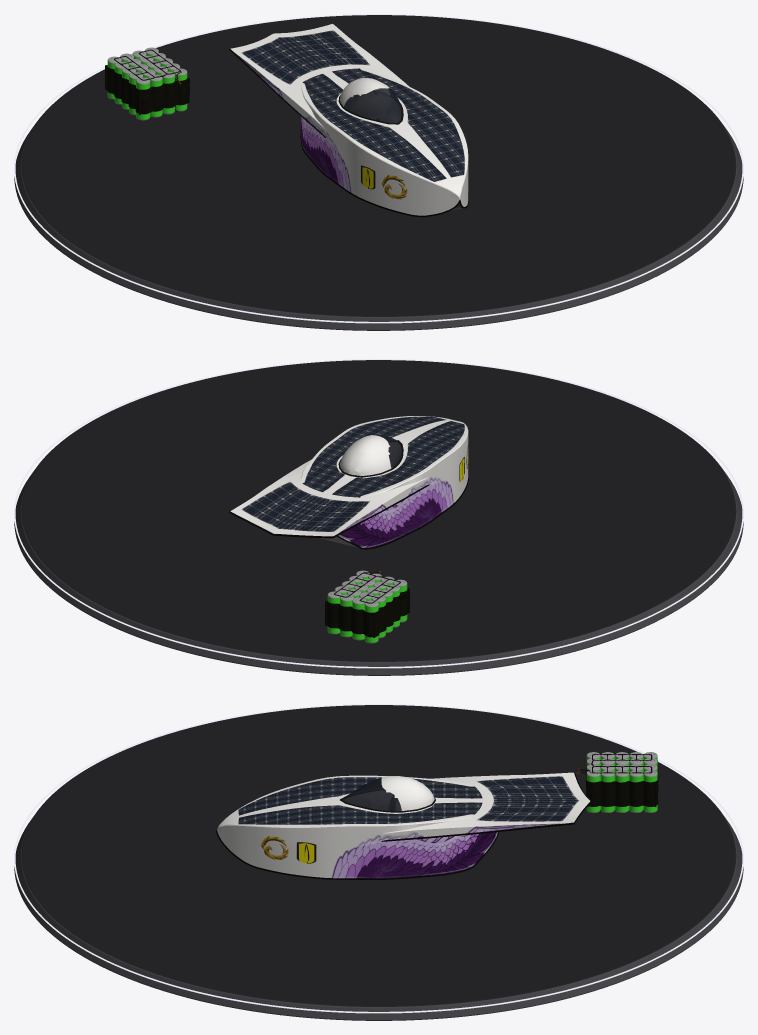
Rendered from vehicle-scene-v1.glb.
3 views of the same model, one above another, from view 1: azimuth 30°, elevation 25°; view 2: azimuth 150°, elevation 25°; view 3: azimuth 270°, elevation 25° (orthographic).
Visible parts, largest first — view 1: Plataforma, Carro_casco, LED_plataforma, Bateria_celdas, Bateria_soporte, Carro_cabina, Carro_borde_a; view 2: Plataforma, Carro_casco, LED_plataforma, Bateria_celdas, Bateria_soporte, Carro_borde_a; view 3: Plataforma, Carro_casco, LED_plataforma, Bateria_celdas, Bateria_soporte, Carro_borde_a, Carro_cabina.
Part boxes in pixels (left/top/right/bottom): Plataforma: left=14, top=15, right=743, bottom=330; Carro_casco: left=230, top=23, right=468, bottom=215; LED_plataforma: left=14, top=14, right=743, bottom=323; Bateria_celdas: left=107, top=47, right=187, bottom=120; Bateria_soporte: left=105, top=65, right=189, bottom=114; Carro_cabina: left=344, top=88, right=400, bottom=122; Carro_borde_a: left=229, top=23, right=468, bottom=217; Plataforma: left=14, top=360, right=743, bottom=675; Carro_casco: left=230, top=416, right=468, bottom=548; LED_plataforma: left=14, top=359, right=743, bottom=668; Bateria_celdas: left=327, top=570, right=407, bottom=643; Bateria_soporte: left=324, top=588, right=410, bottom=637; Carro_borde_a: left=229, top=466, right=468, bottom=549; Plataforma: left=14, top=705, right=743, bottom=1020; Carro_casco: left=217, top=772, right=590, bottom=878; LED_plataforma: left=14, top=704, right=743, bottom=1013; Bateria_celdas: left=586, top=752, right=657, bottom=812; Bateria_soporte: left=585, top=760, right=658, bottom=806; Carro_borde_a: left=216, top=772, right=590, bottom=879; Carro_cabina: left=343, top=779, right=401, bottom=810.
Size of what is drawn, in the model's own units: 4.59 by 0.6198 by 4.59.
16 materials, 3 textured.
